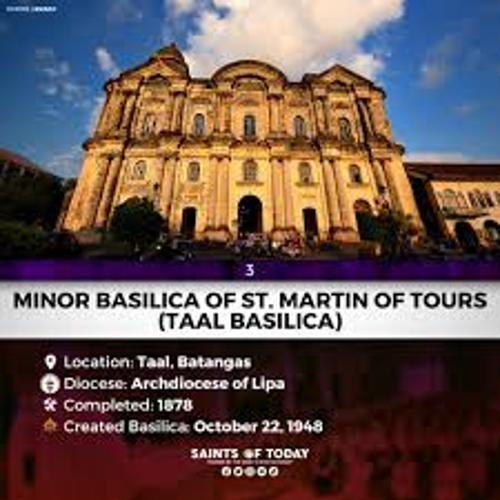Taal Basilica Church: (56, 33, 430, 254)
